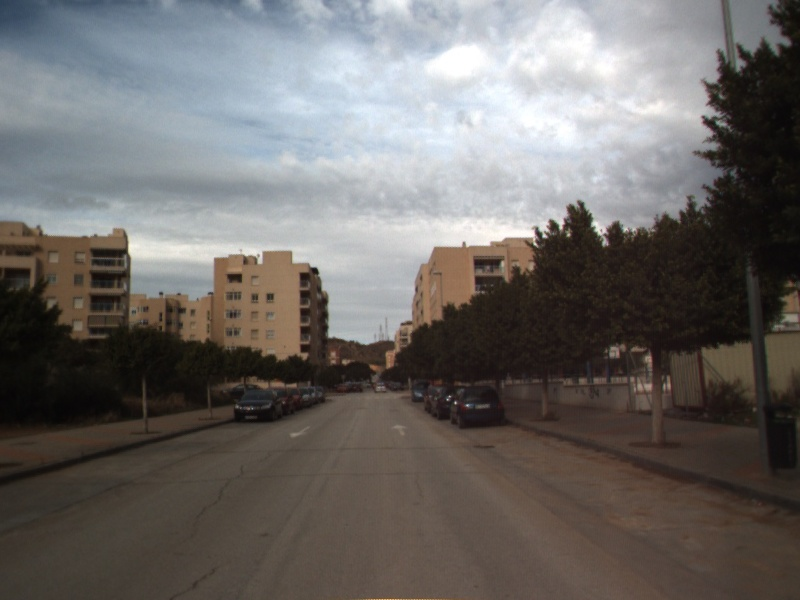STRAIGHT: (389, 422, 410, 437)
